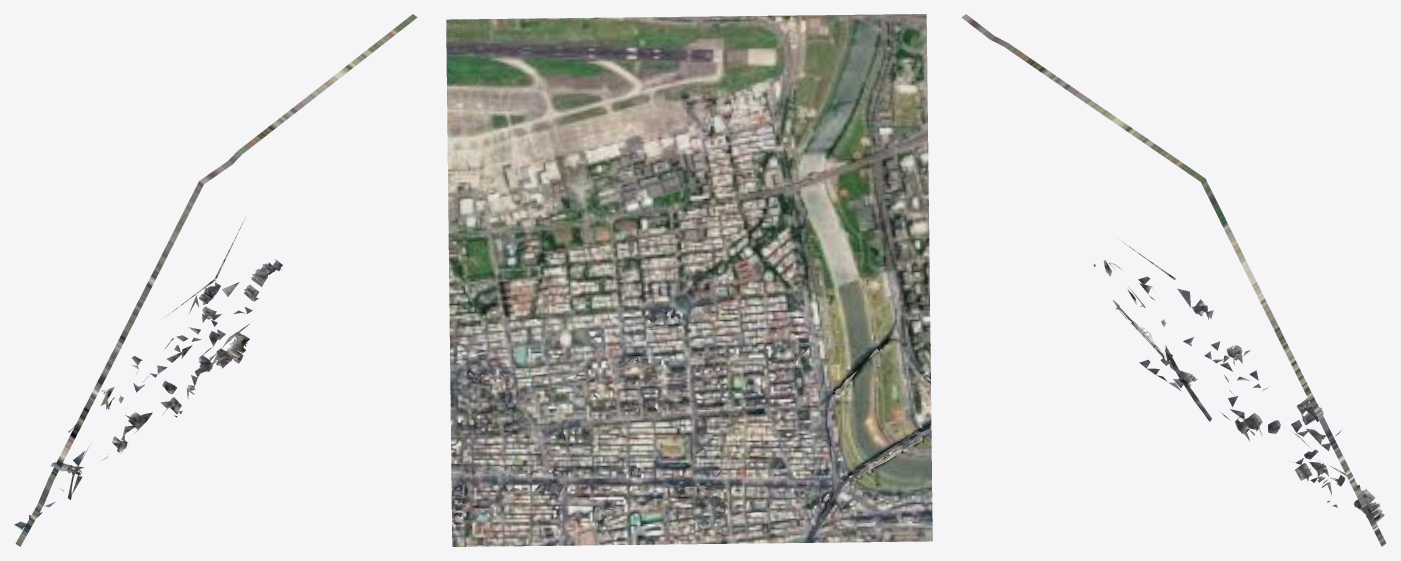
3 renders of one model, left to right at view 1: azimuth 30°, elevation 25°; view 2: azimuth 150°, elevation 25°; view 3: azimuth 270°, elevation 25°, orthographic. The views are drawn at different scales.
Size of the model in its own units: 2448 by 2219 by 2064.
1 material, 1 textured.
